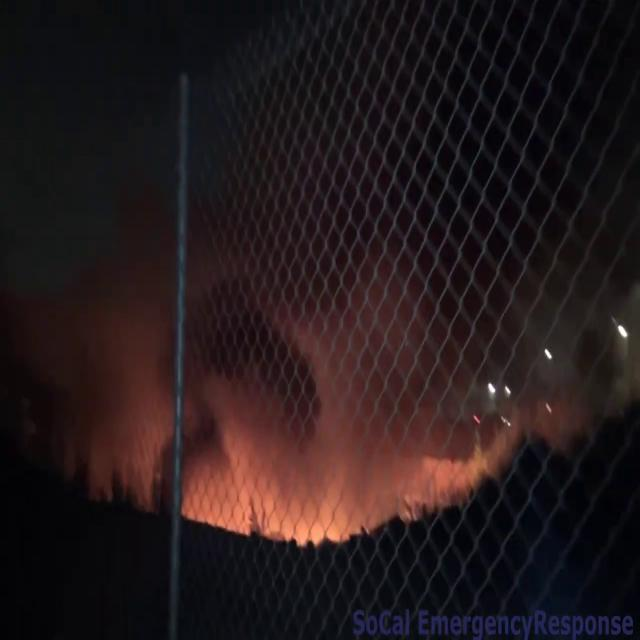Smoke: (62, 299, 426, 522)
